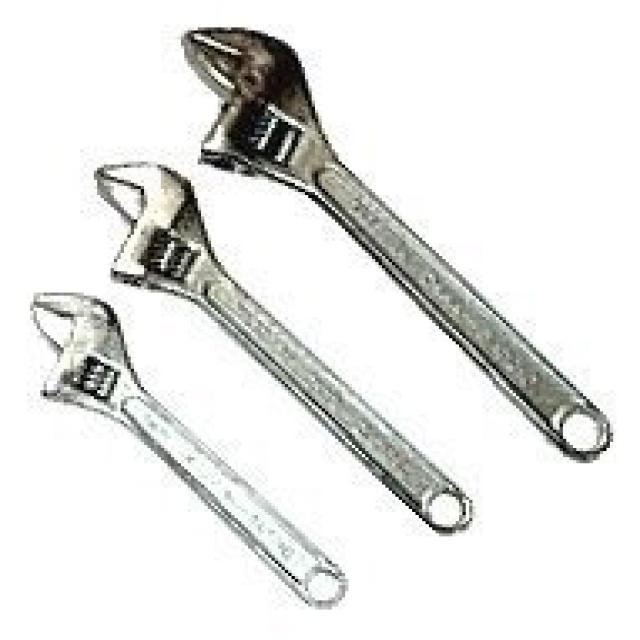wrench: (160, 0, 590, 258), (20, 287, 175, 487)
